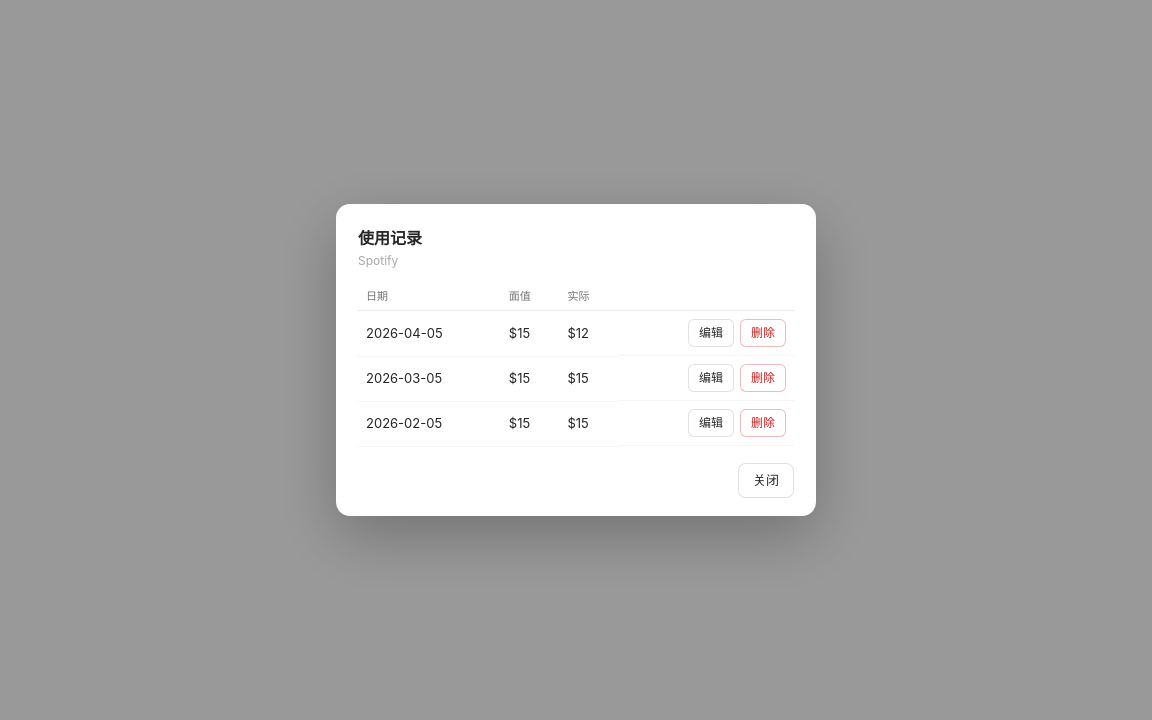
Test: BenefitHistoryDialog › opens UsageRecordEditDialog prefilled with row values when 编辑 clicked
What coordinates should you click on to do the following:
click the button labelled "编辑" in the row of "2026-04-05"
I would click on:
 (711, 333)
Its box is [688, 319, 734, 347].
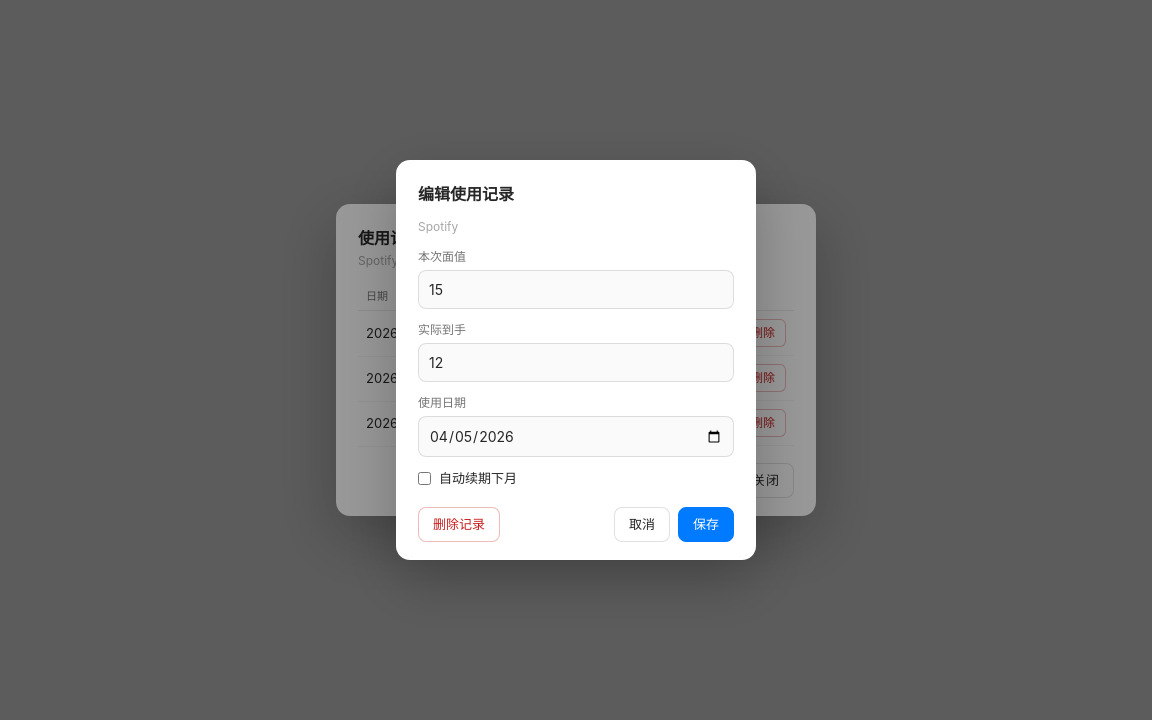
Expected: the dialog "编辑使用记录" is shown, [396, 160, 756, 560]
Expected: the date field labelled "使用日期" holds "2026-04-05", [418, 416, 734, 457]
